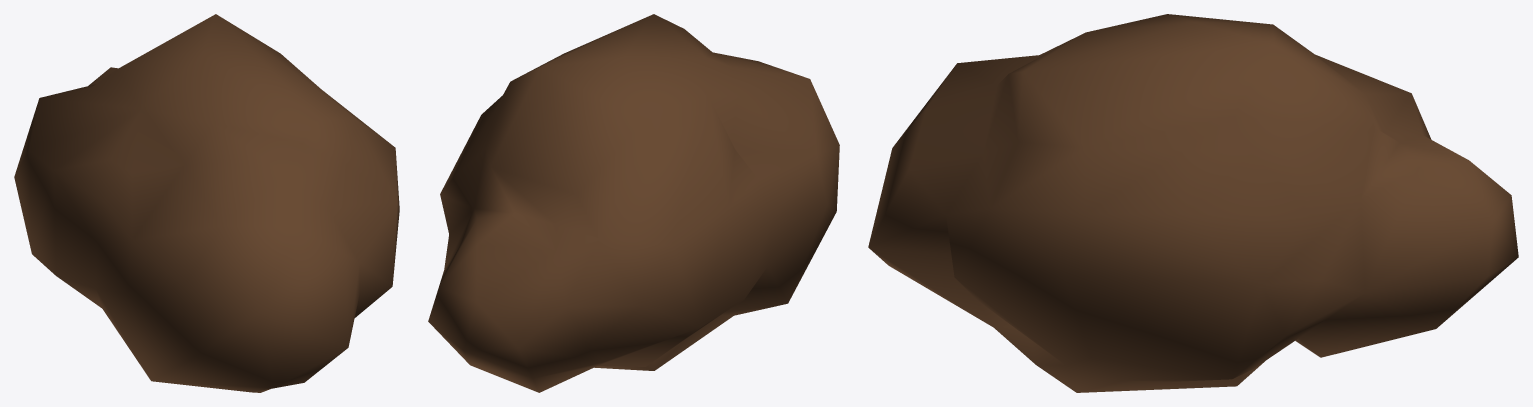
The model's file is Poop.obj.
3 views of the same model, side by side, from view 1: azimuth 30°, elevation 25°; view 2: azimuth 150°, elevation 25°; view 3: azimuth 270°, elevation 25° (orthographic). The views are drawn at different scales.
Visible parts, largest first — view 1: Poop; view 2: Poop; view 3: Poop.
Boxes of the visible parts, x1,y1,x2,y2 form: Poop: (14,14,399,392); Poop: (428,14,839,392); Poop: (868,14,1518,392).
Size of the model in its own units: 0.6 by 0.6 by 1.
